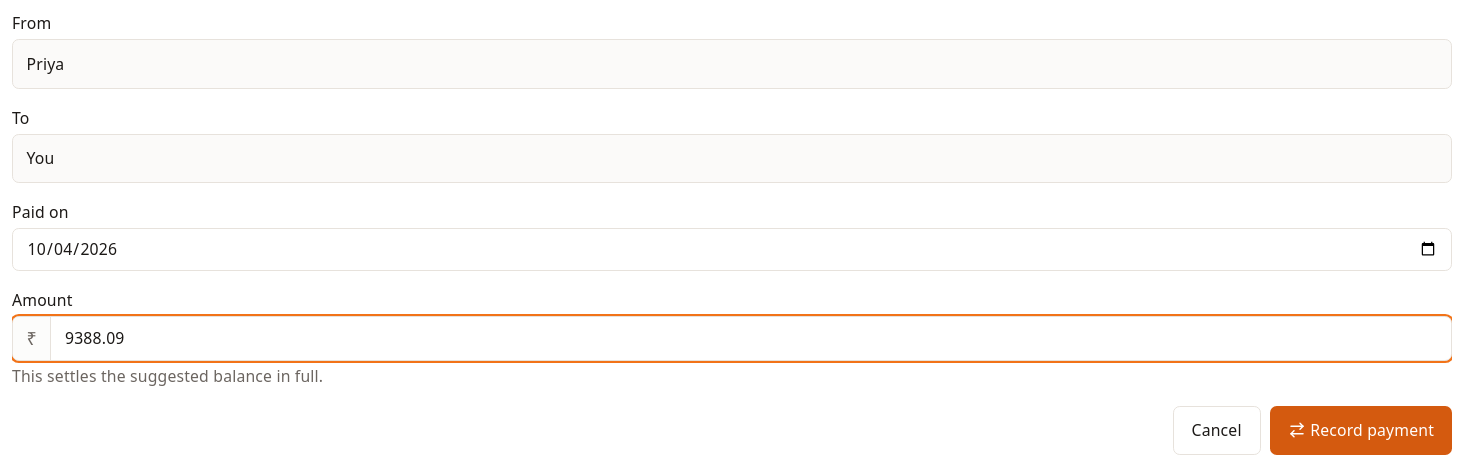
RecordPaymentForm › locks settlement participants and explains full and partial payment amounts
Expected: the text named "From: Priya" reads "Priya", [26,52,64,74]
Expected: the text named "To: You" reads "You", [26,147,54,169]
Replace the text in the number field labelled "Amount" with "6000" at (751, 338), box [52,316,1451,360]
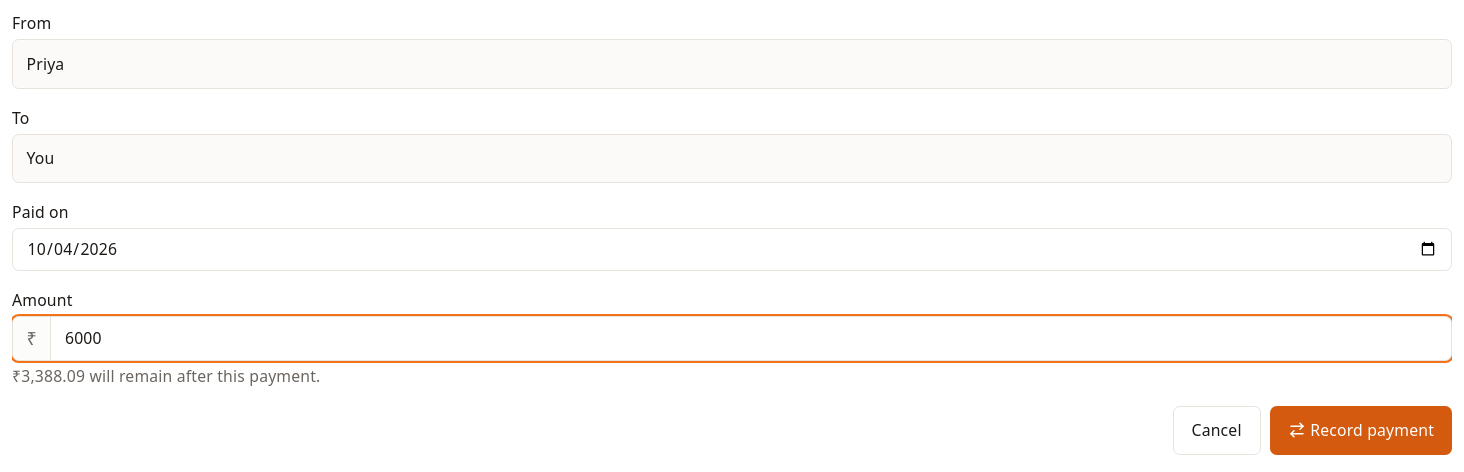
Expected: the text "₹3,388.09 will remain after this payment." is shown, [12,365,320,387]
